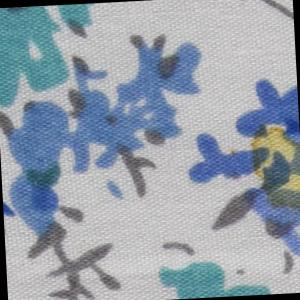Oil Stain: (223, 119, 300, 217)
